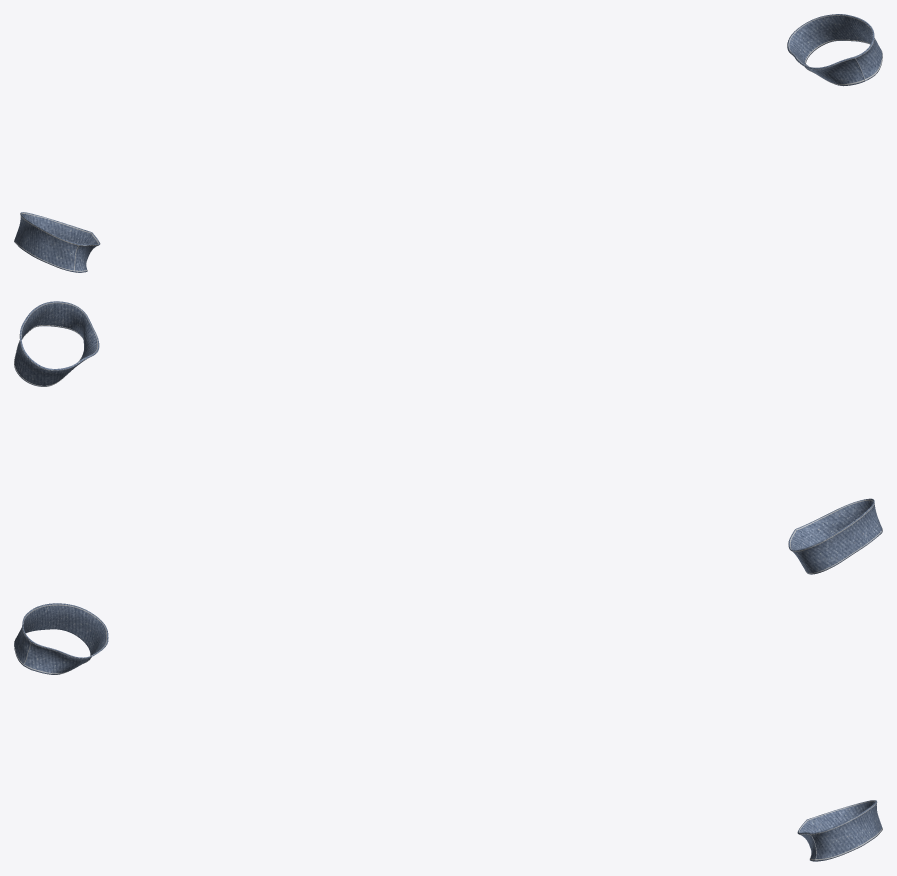
The model's file is Jac_Rukav_V2.glb.
3 renders of one model, top to bottom at view 1: azimuth 30°, elevation 25°; view 2: azimuth 150°, elevation 25°; view 3: azimuth 330°, elevation 25°, orthographic.
Parts seen in each view (by area): view 1: Jac_Sleeves.001, Jac_Rope_Sleeves.001; view 2: Jac_Sleeves.001, Jac_Rope_Sleeves.001; view 3: Jac_Sleeves.001, Jac_Rope_Sleeves.001.
Boxes of the visible parts, bbox=[...] form: Jac_Sleeves.001: bbox=[14, 14, 882, 272]; Jac_Rope_Sleeves.001: bbox=[14, 15, 882, 271]; Jac_Sleeves.001: bbox=[14, 301, 882, 574]; Jac_Rope_Sleeves.001: bbox=[14, 302, 882, 573]; Jac_Sleeves.001: bbox=[14, 603, 882, 861]; Jac_Rope_Sleeves.001: bbox=[14, 604, 882, 860].
Bounding box in the file's own units: 1.72 × 0.1002 × 0.2001.
2 materials, 2 textured.
